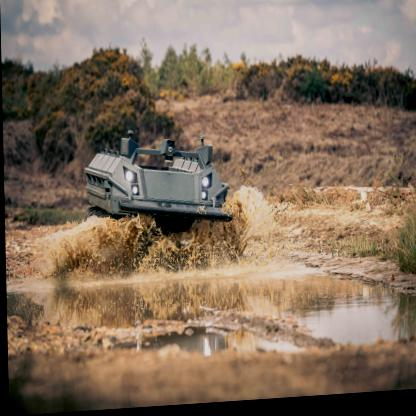UGV: (83, 125, 232, 234)
